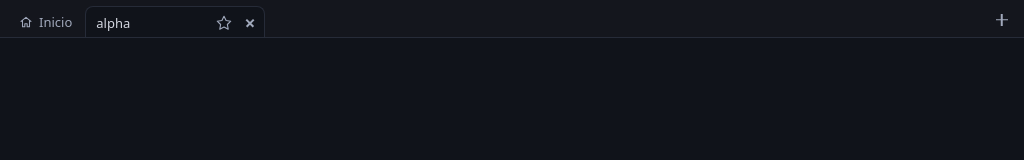
Test case: TabBar › opening a project › writes the shortcut with the Command key on macOS
This screenshot has width=1024, height=160.
Click the button named "Abrir un proyecto".
click(1002, 20)  # box [990, 8, 1014, 32]
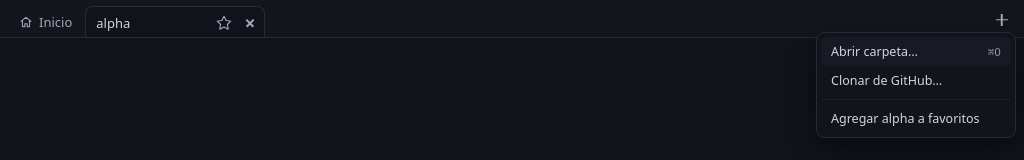
Result: the text "⌘O" is shown at [988, 46, 1001, 58]
